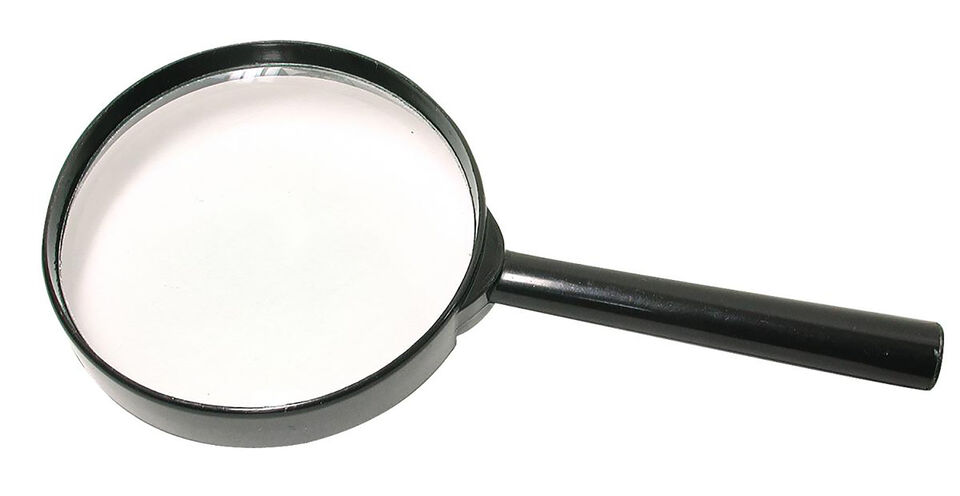magnifying-glass: (35, 35, 604, 459)
